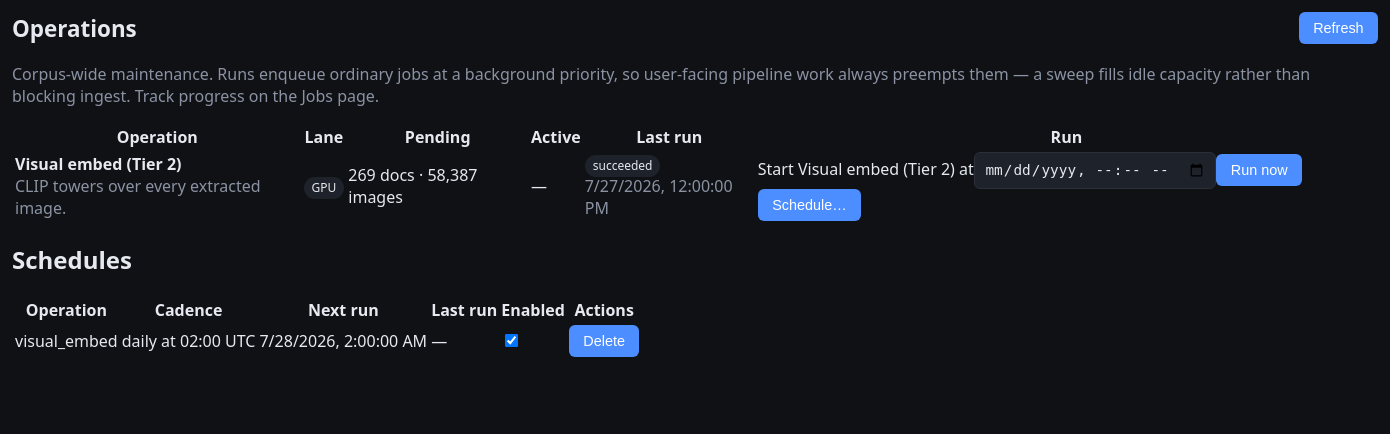
OperationsPage › surfaces a server rejection instead of silently failing
The width and height of the screenshot is (1390, 434).
Click the button "Run now" at (1259,170), box x1=1216 y1=154 x2=1302 y2=186
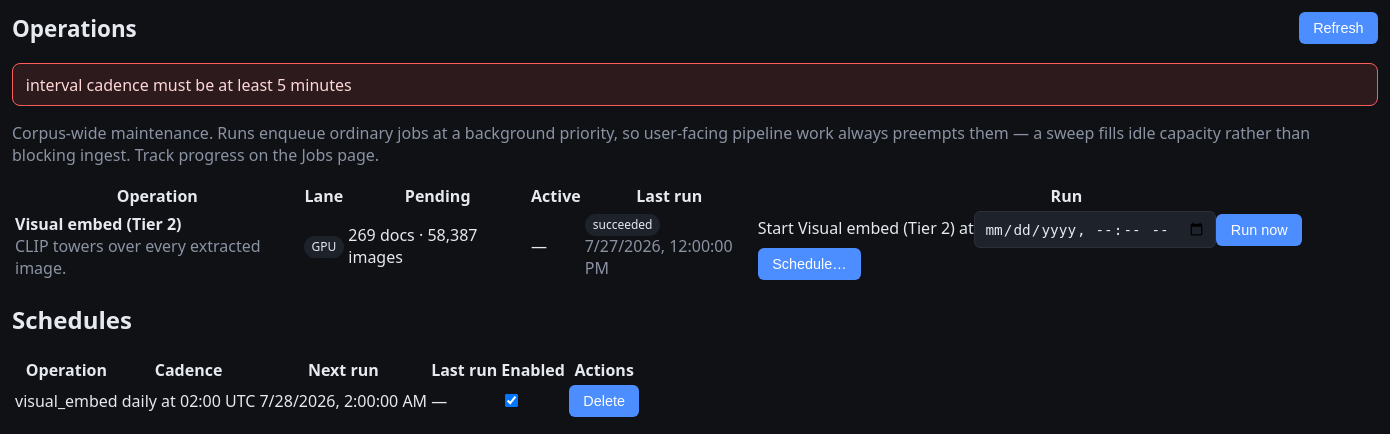
Expected: the message shows "at least 5 minutes", x1=26 y1=74 x2=352 y2=96
